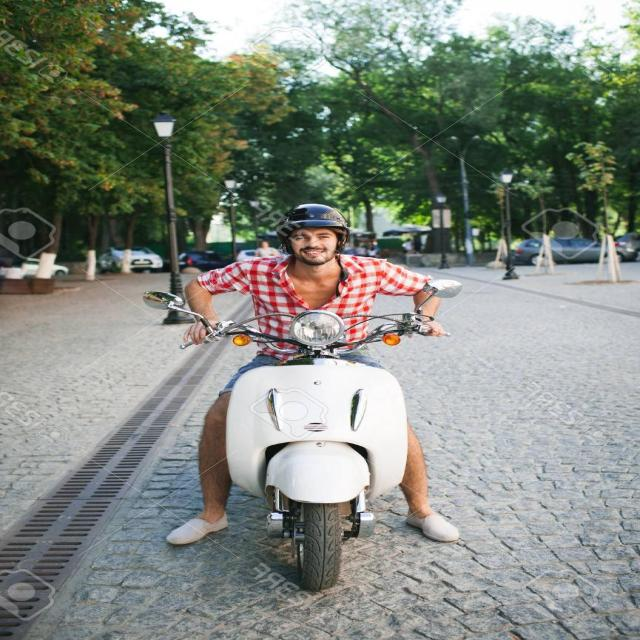helmet: (263, 188, 360, 265)
